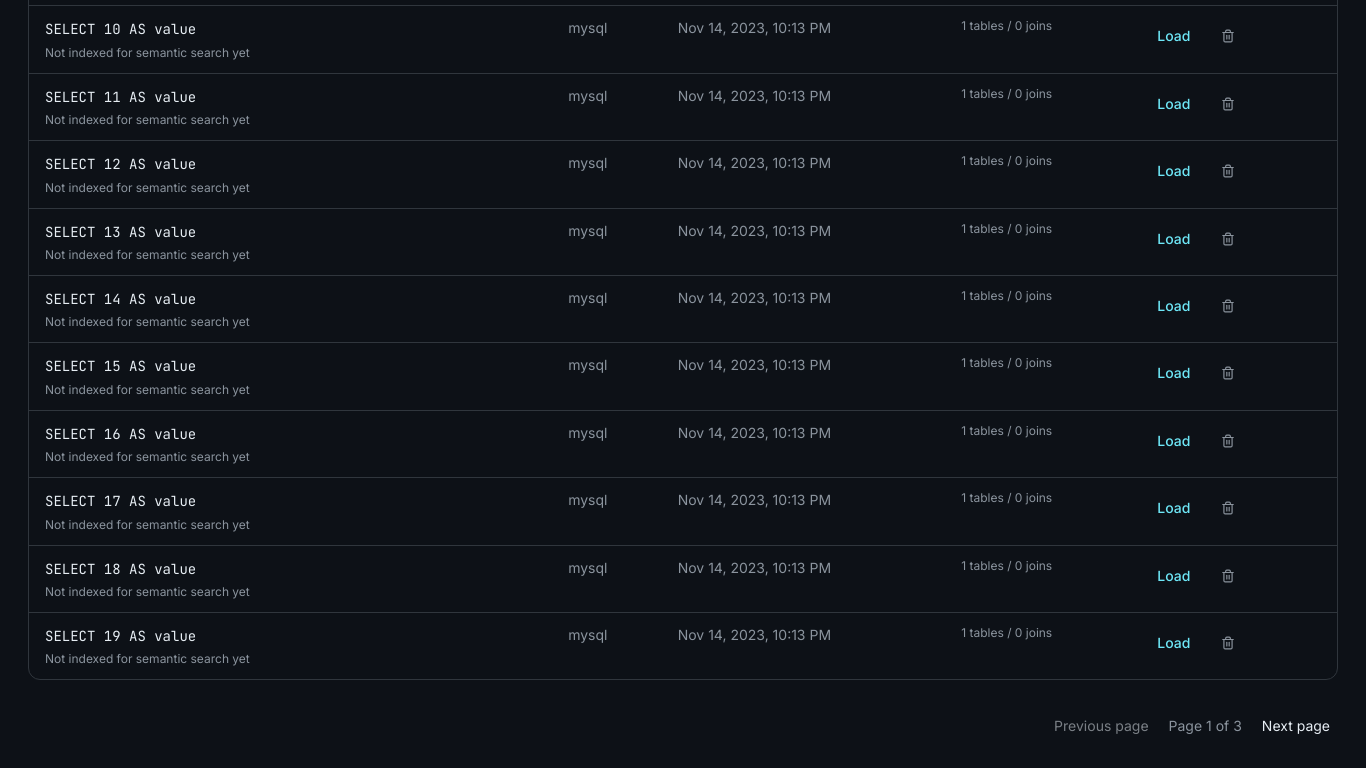
it: Query history page › clamps the page after deleting the last entry and requires confirmation to clear
(page scrolled)
Click the button "Next page" at (1296, 726), box 1254,704 -> 1338,748
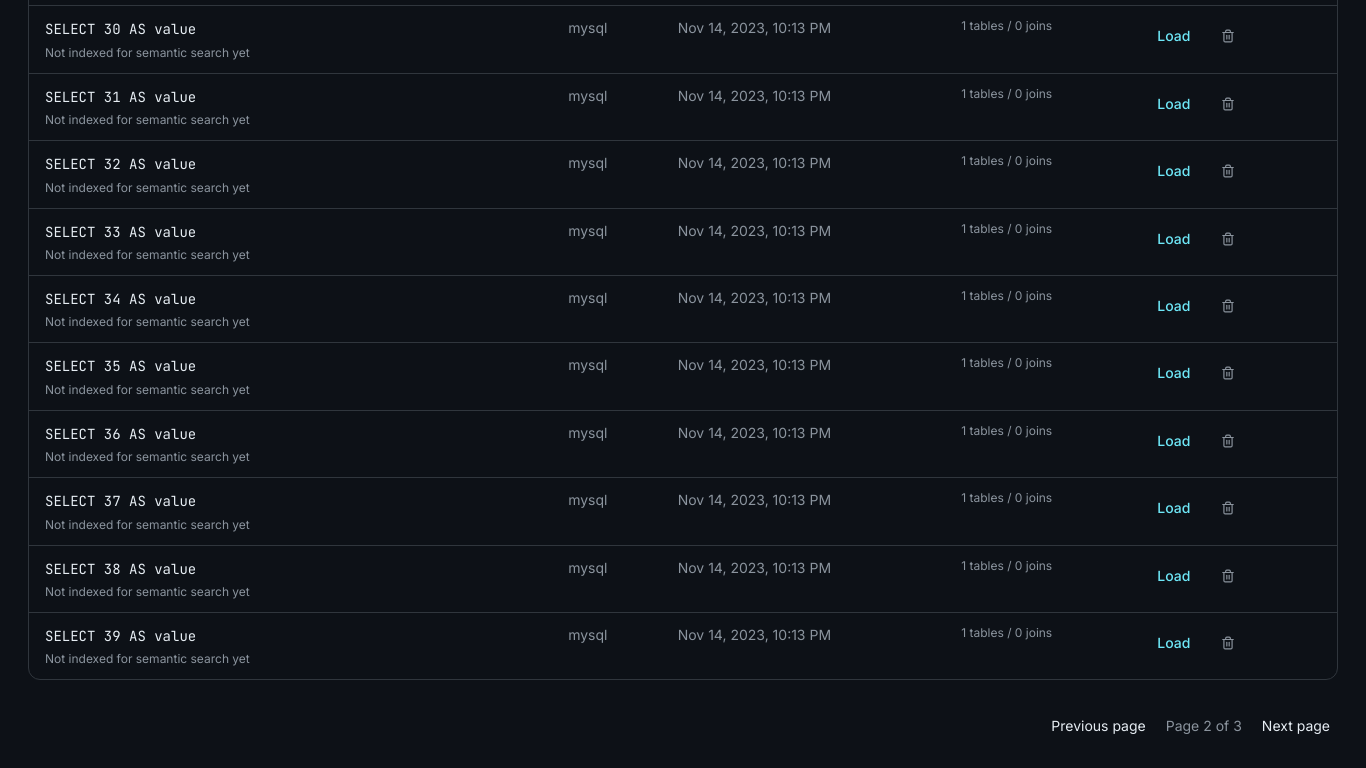
Click the button "Next page" at (1296, 726), box 1254,704 -> 1338,748
(page scrolled)
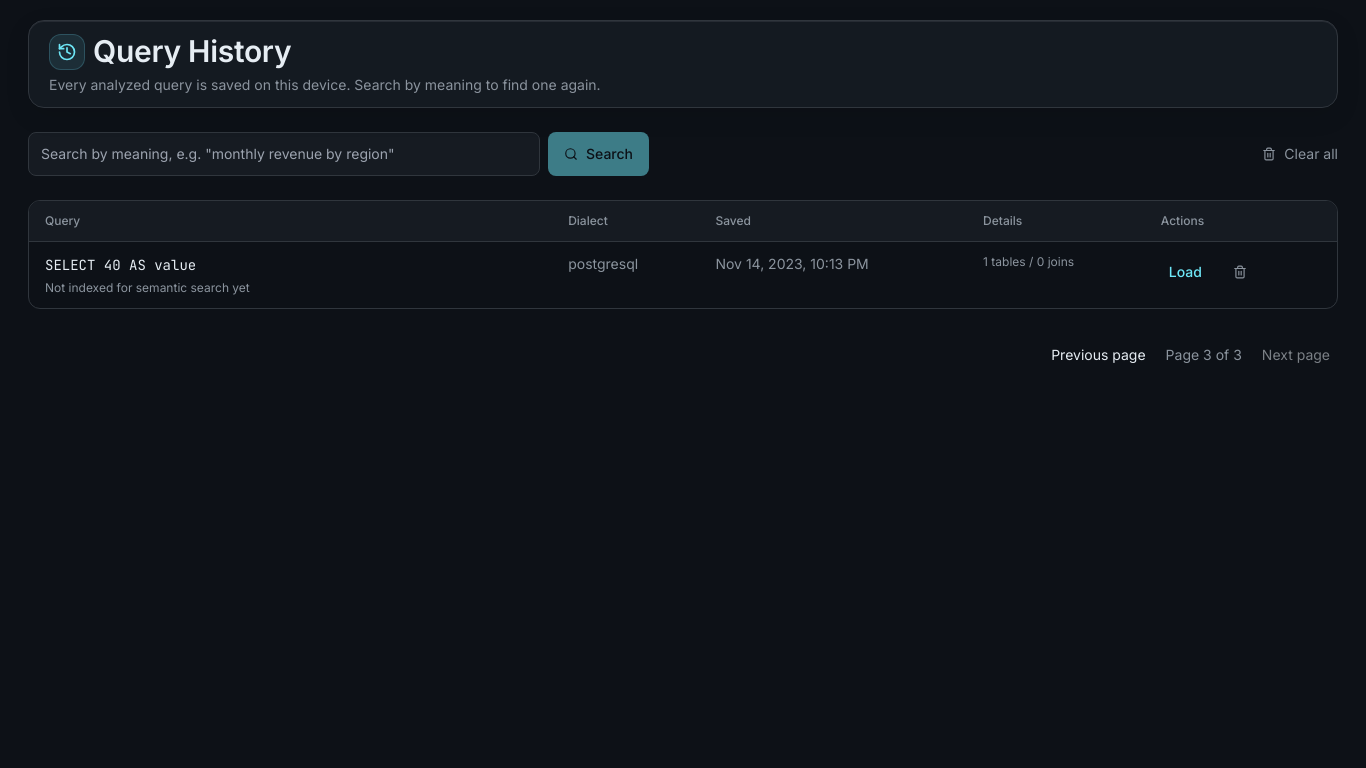
Click the button named "Delete: SELECT 40 AS value" at (1240, 272), box 1218,250 -> 1262,294
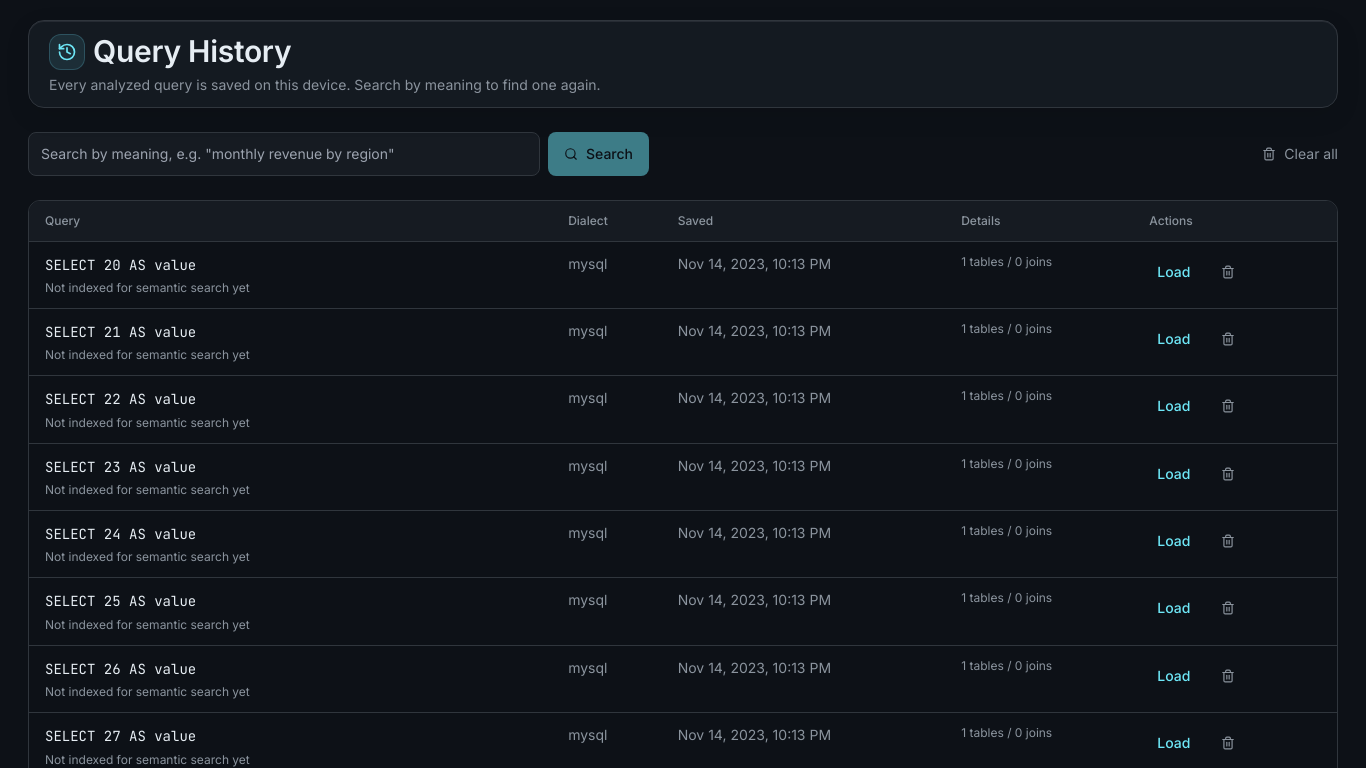
Click the button "Clear all" at (1300, 154), box 1262,132 -> 1338,176
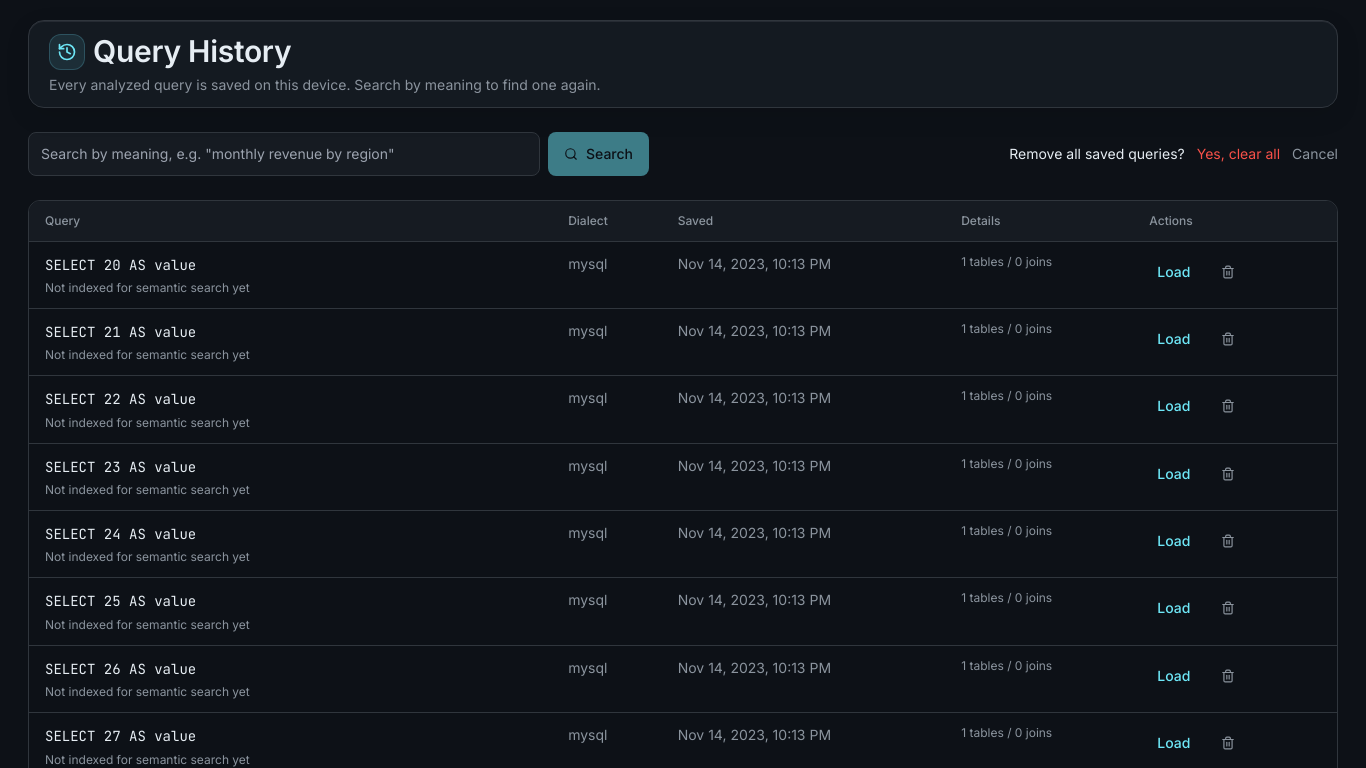
Click the button "Yes, clear all" at (1238, 154), box 1197,132 -> 1280,176
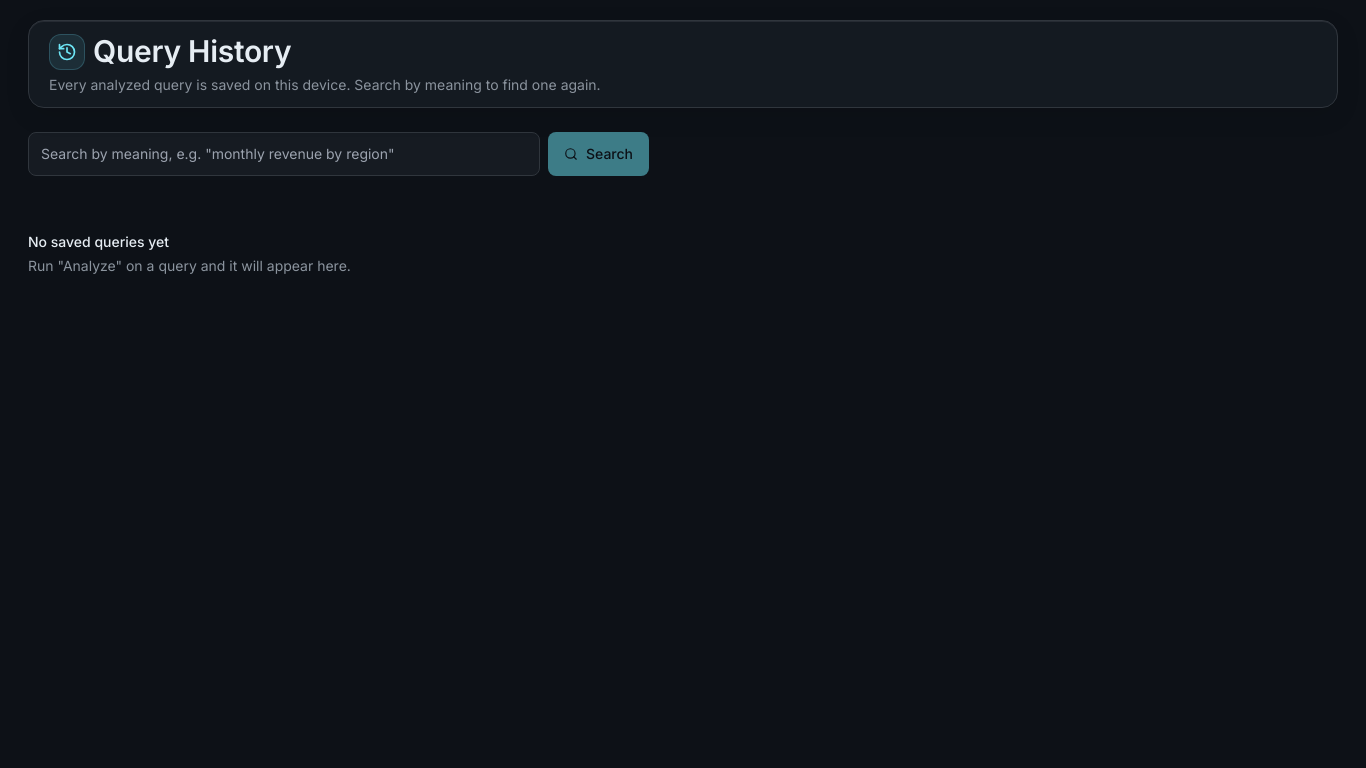
Now the text "No saved queries yet" is shown, box 28,232 -> 169,250
